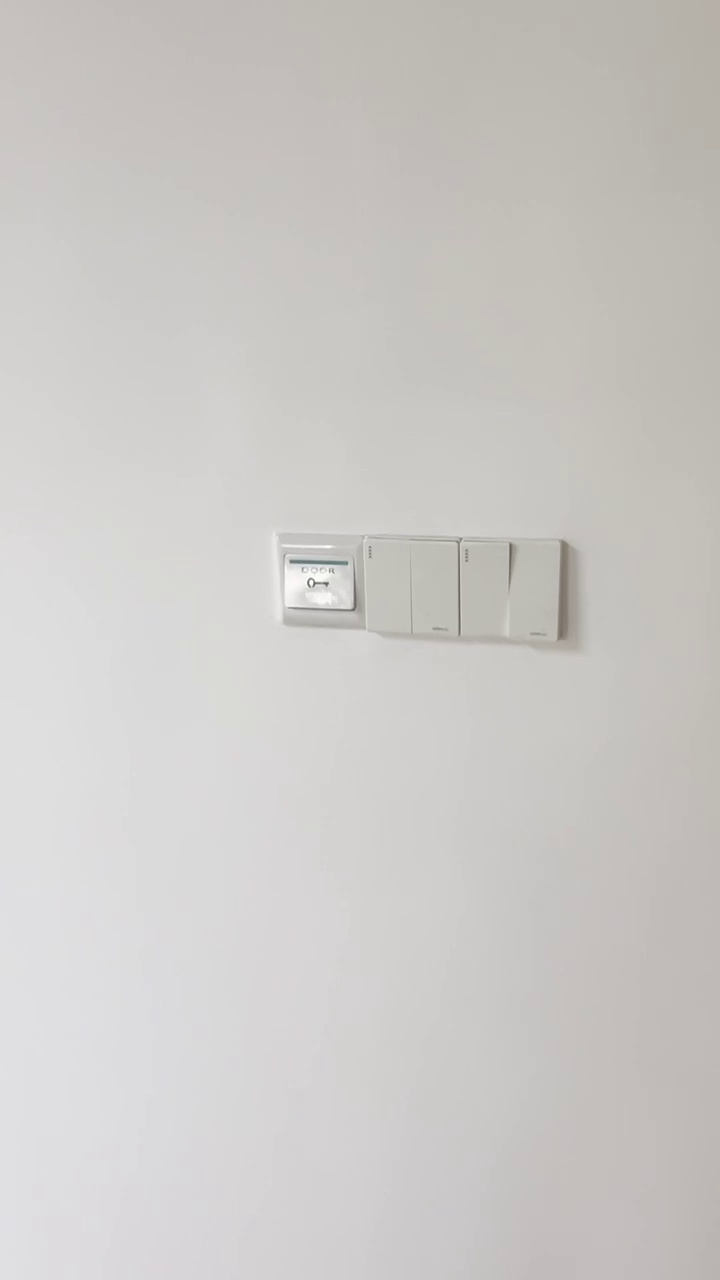button: (459, 535, 570, 645), (359, 532, 462, 648)
